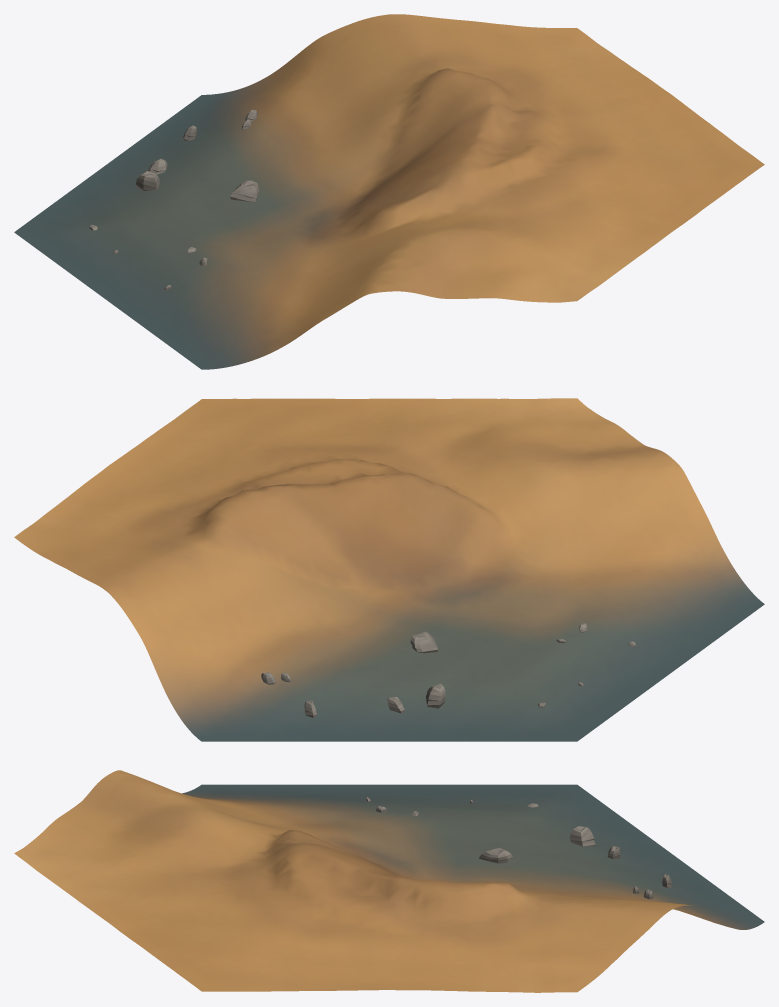
The model's file is costa_-01_-03.glb.
The picture shows the model from 3 angles, top to bottom: view 1: azimuth 30°, elevation 25°; view 2: azimuth 150°, elevation 25°; view 3: azimuth 270°, elevation 25°; orthographic projection.
Visible parts, largest first — view 1: terrain, Formações costeiras; view 2: terrain, Formações costeiras; view 3: terrain, Formações costeiras.
Boxes of the visible parts, x1=… form: terrain: x1=14, y1=14, x2=764, y2=369; Formações costeiras: x1=89, y1=110, x2=259, y2=290; terrain: x1=14, y1=398, x2=764, y2=741; Formações costeiras: x1=261, y1=623, x2=635, y2=717; terrain: x1=14, y1=770, x2=764, y2=992; Formações costeiras: x1=365, y1=797, x2=671, y2=899.
Size of the model in its own units: 4330 by 705 by 5000.
1 material, 1 textured.
